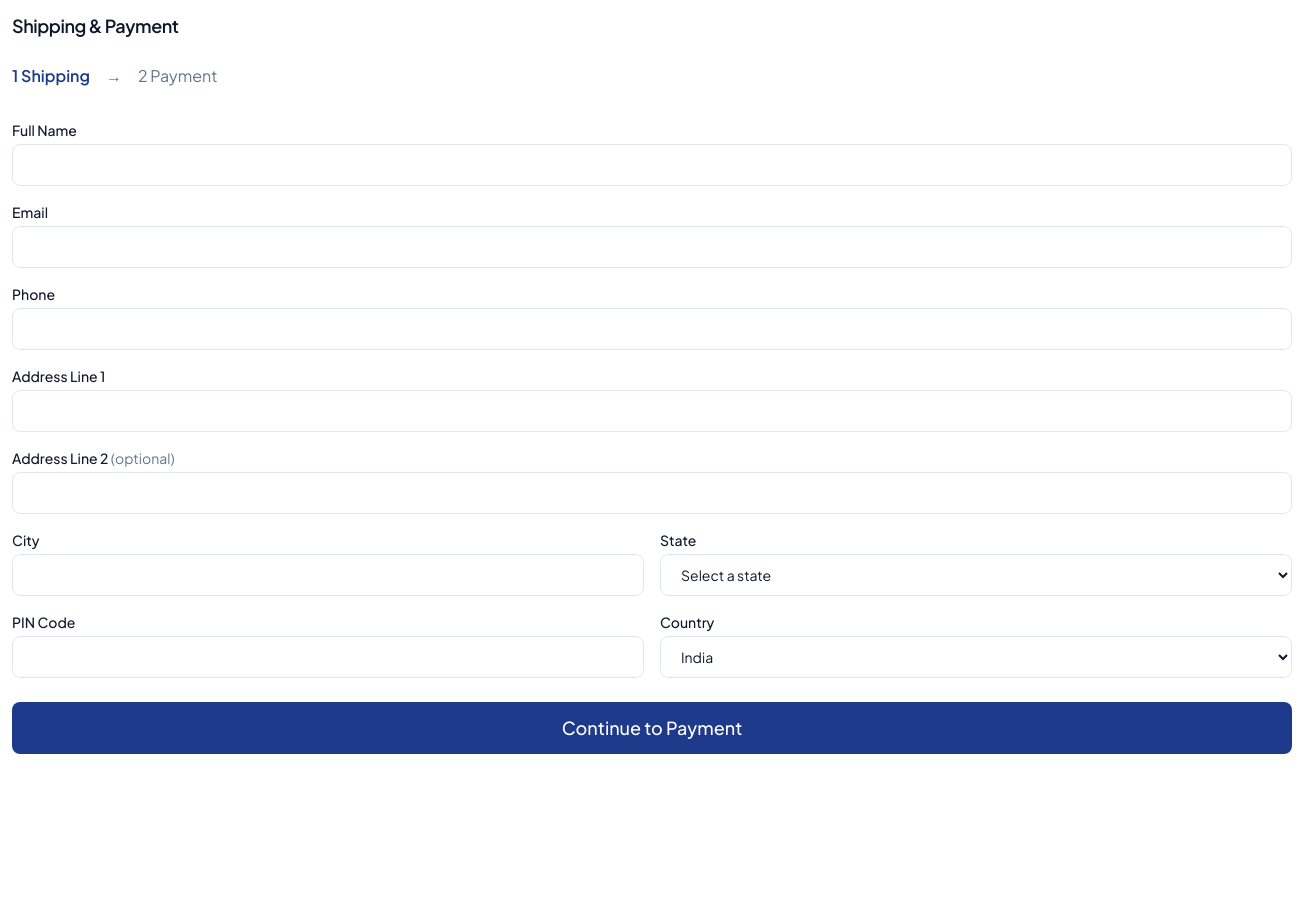
Test: CheckoutForm › stays on the address step and shows the error when order creation fails
The width and height of the screenshot is (1304, 912).
Type "Test User" into the field labelled "Full Name" at (652, 165), box [12, 144, 1292, 186]
Type "test@test.com" into the field labelled "Email" at (652, 247), box [12, 226, 1292, 268]
Type "9876543210" into the field labelled "Phone" at (652, 329), box [12, 308, 1292, 350]
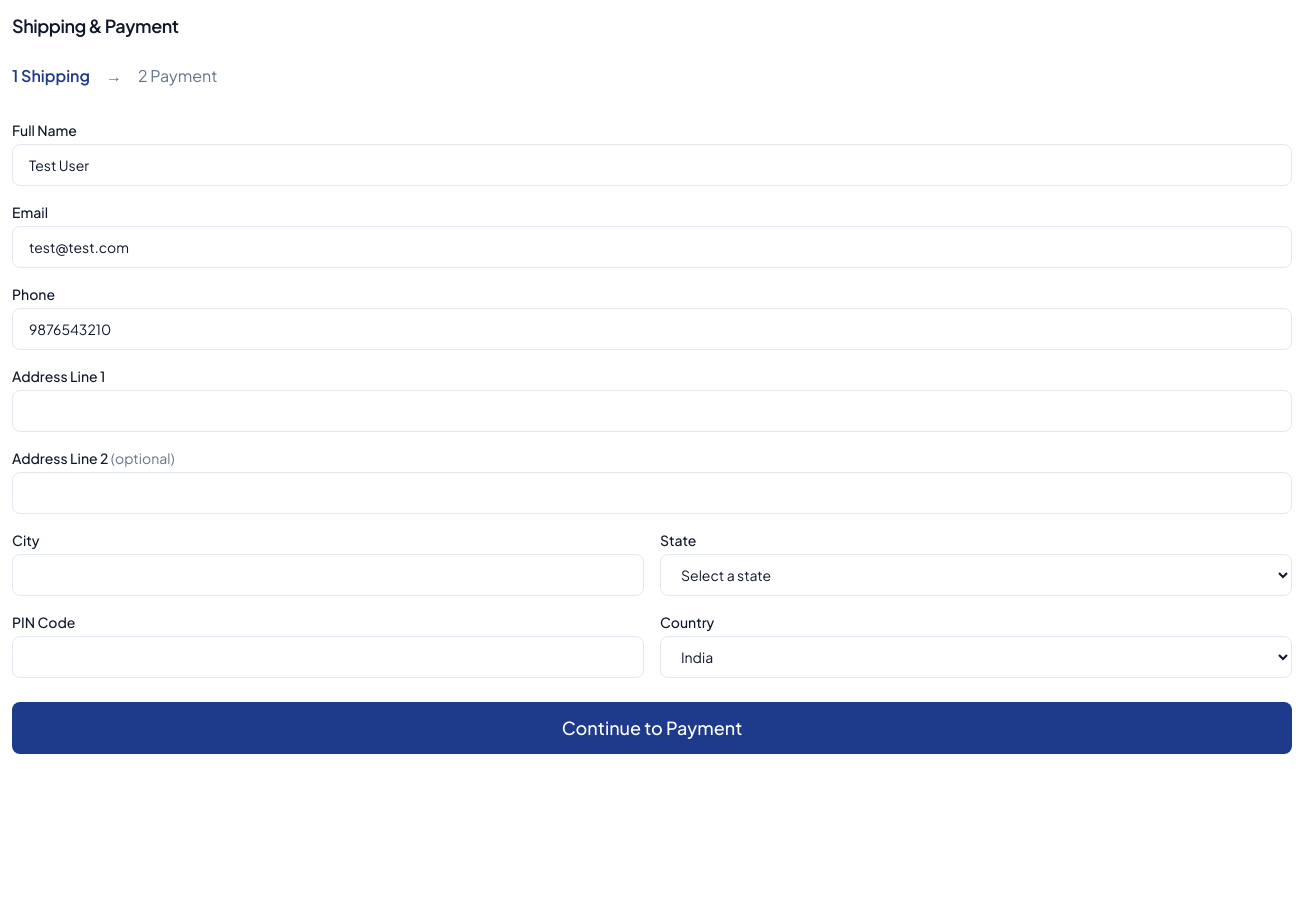
Type "22-1-53, Balaji Nagar" into the field labelled "Address Line 1" at (652, 411), box [12, 390, 1292, 432]
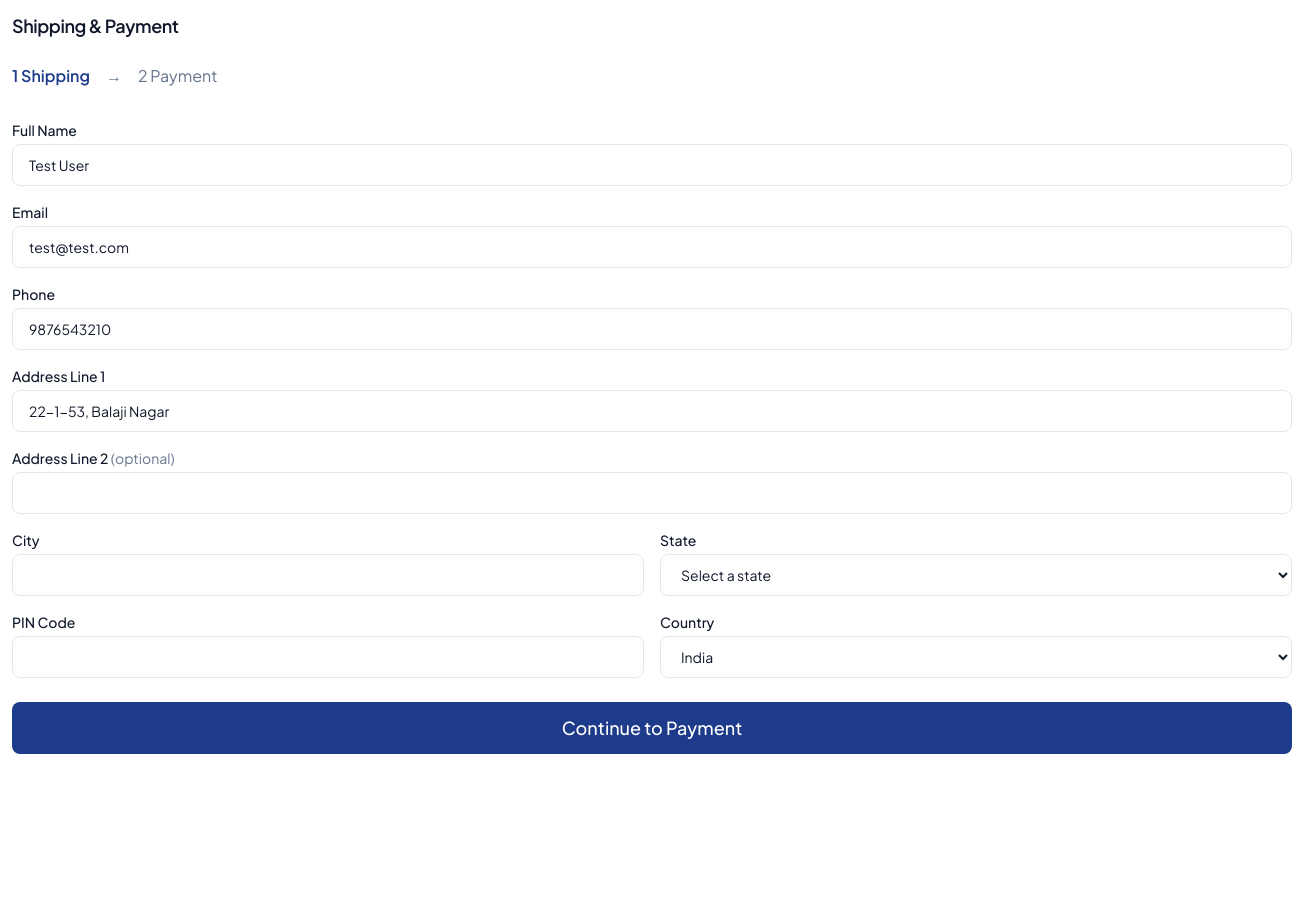
Type "Vijayawada" into the field labelled "City" at (328, 575), box [12, 554, 644, 596]
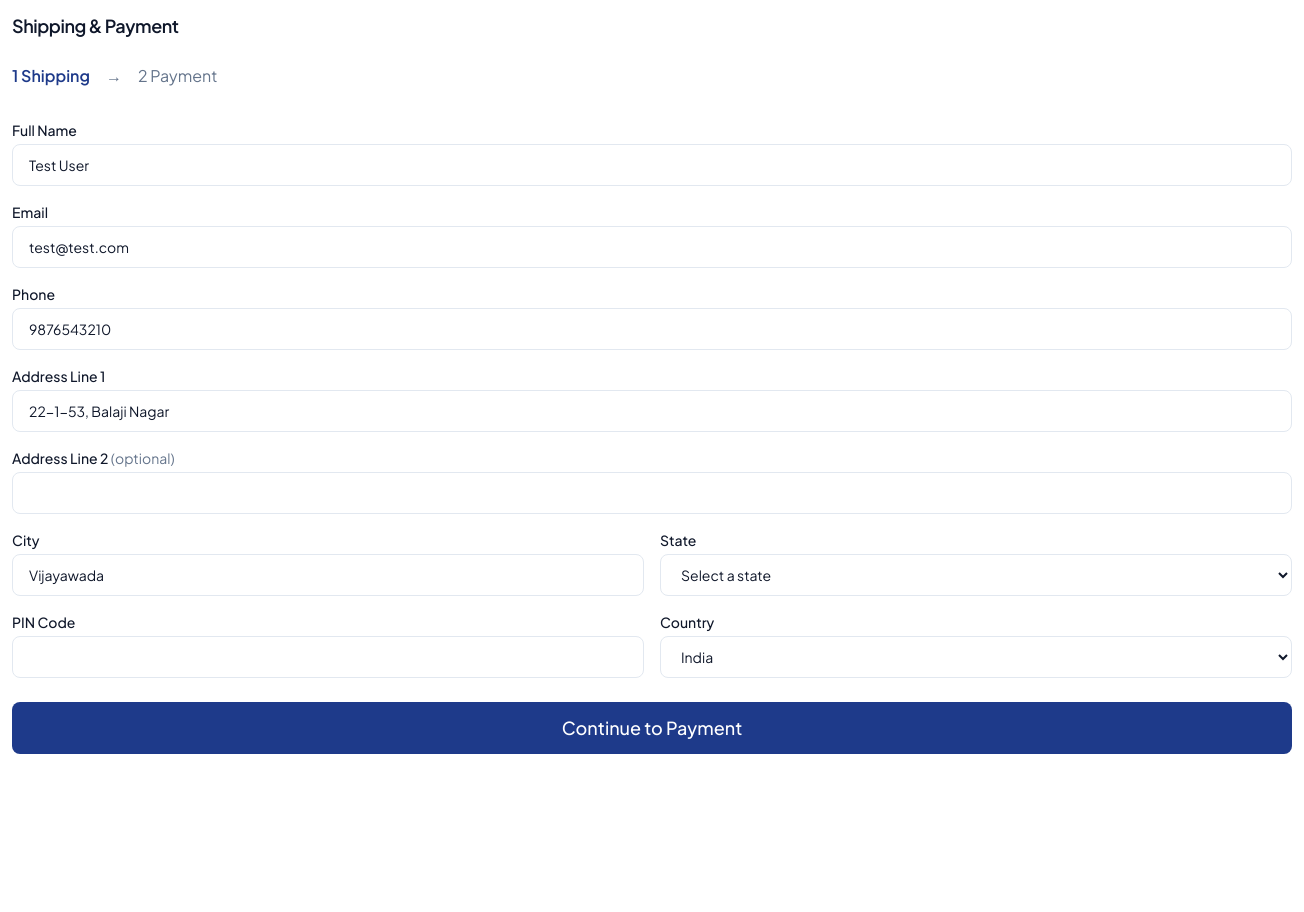
Select "Andhra Pradesh" in the dropdown labelled "State" at (976, 575), box [660, 554, 1292, 596]
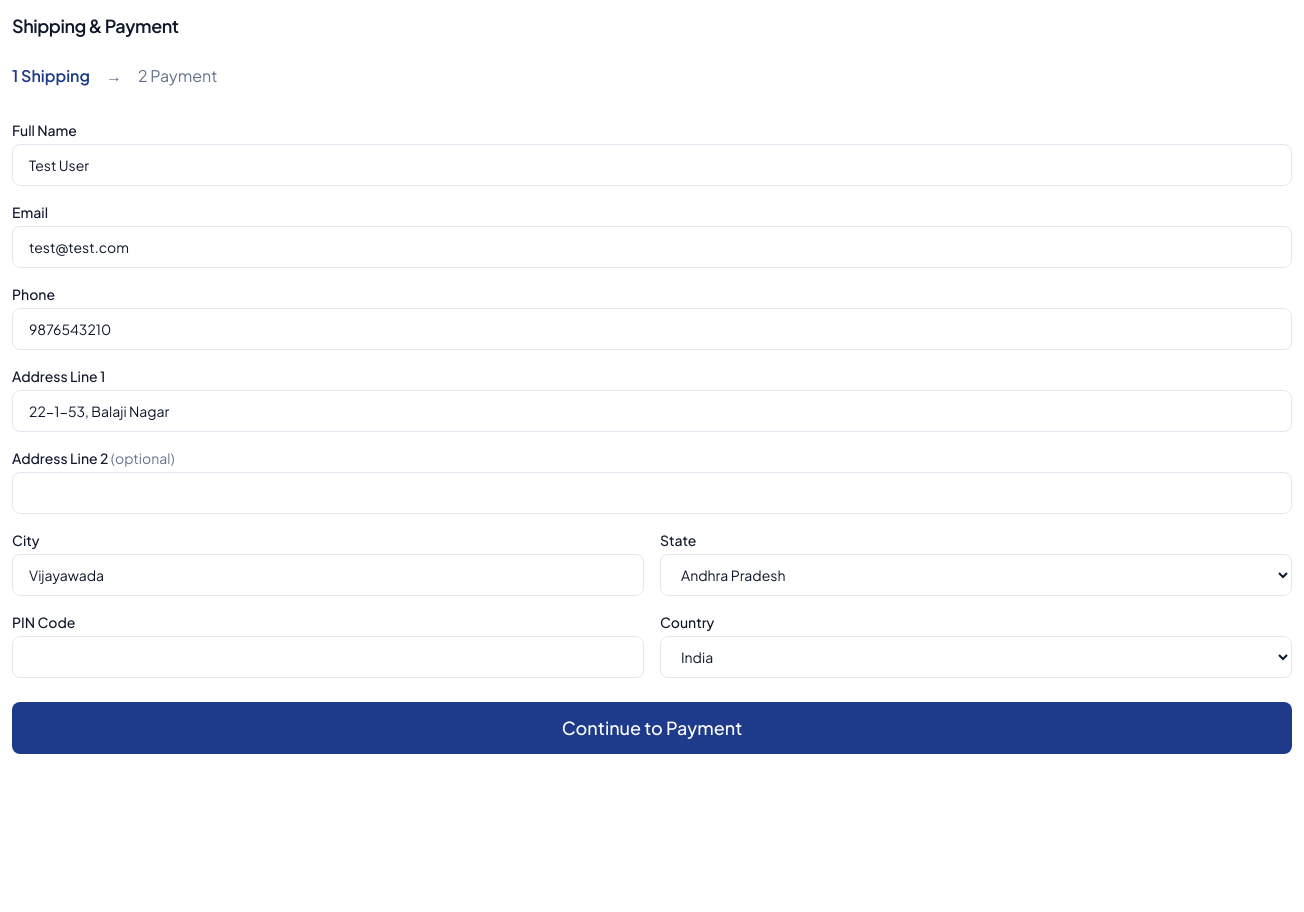
Type "520010" into the field labelled "PIN Code" at (328, 657), box [12, 636, 644, 678]
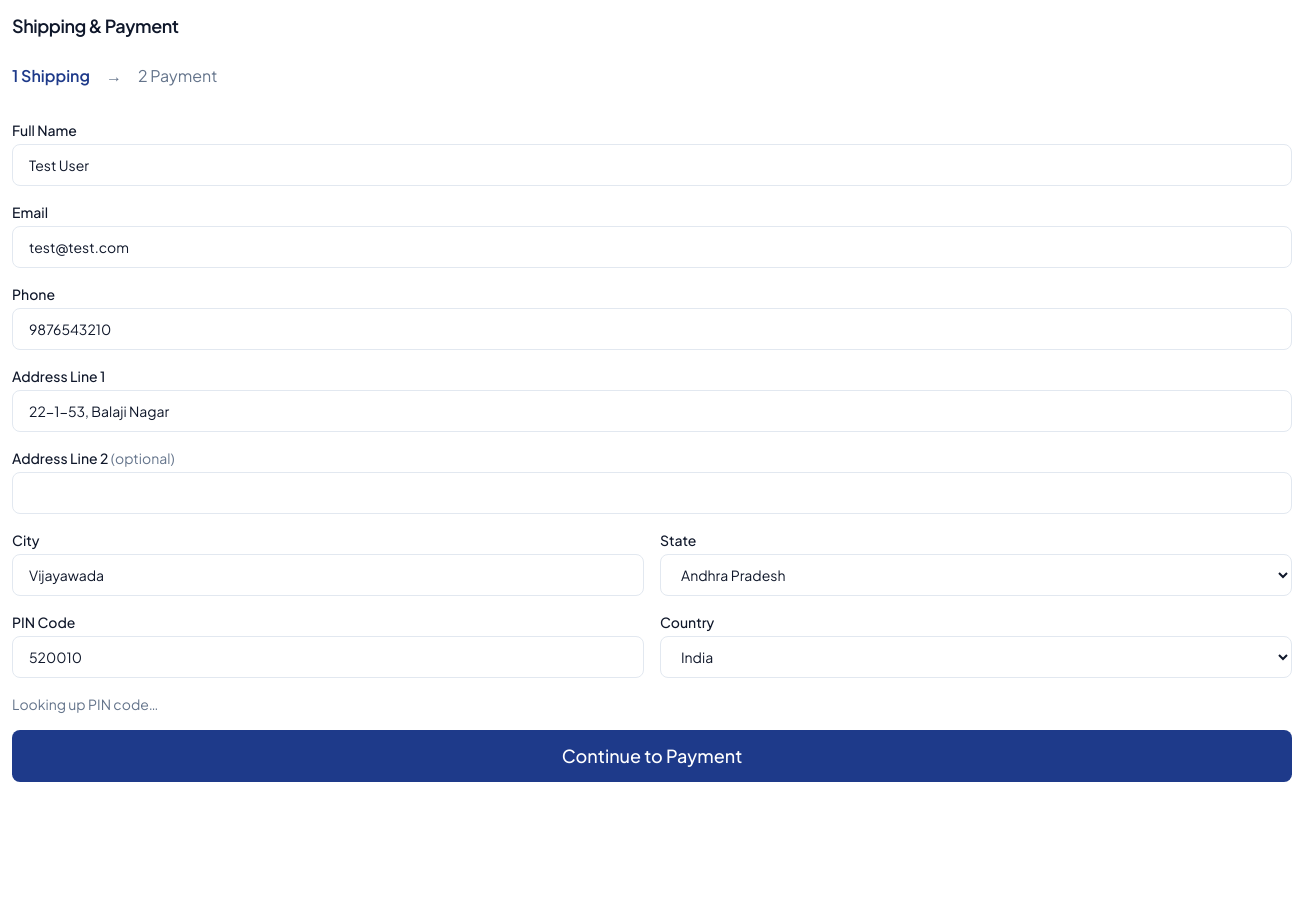
Click the button "Continue to Payment" at (652, 756), box [12, 730, 1292, 782]
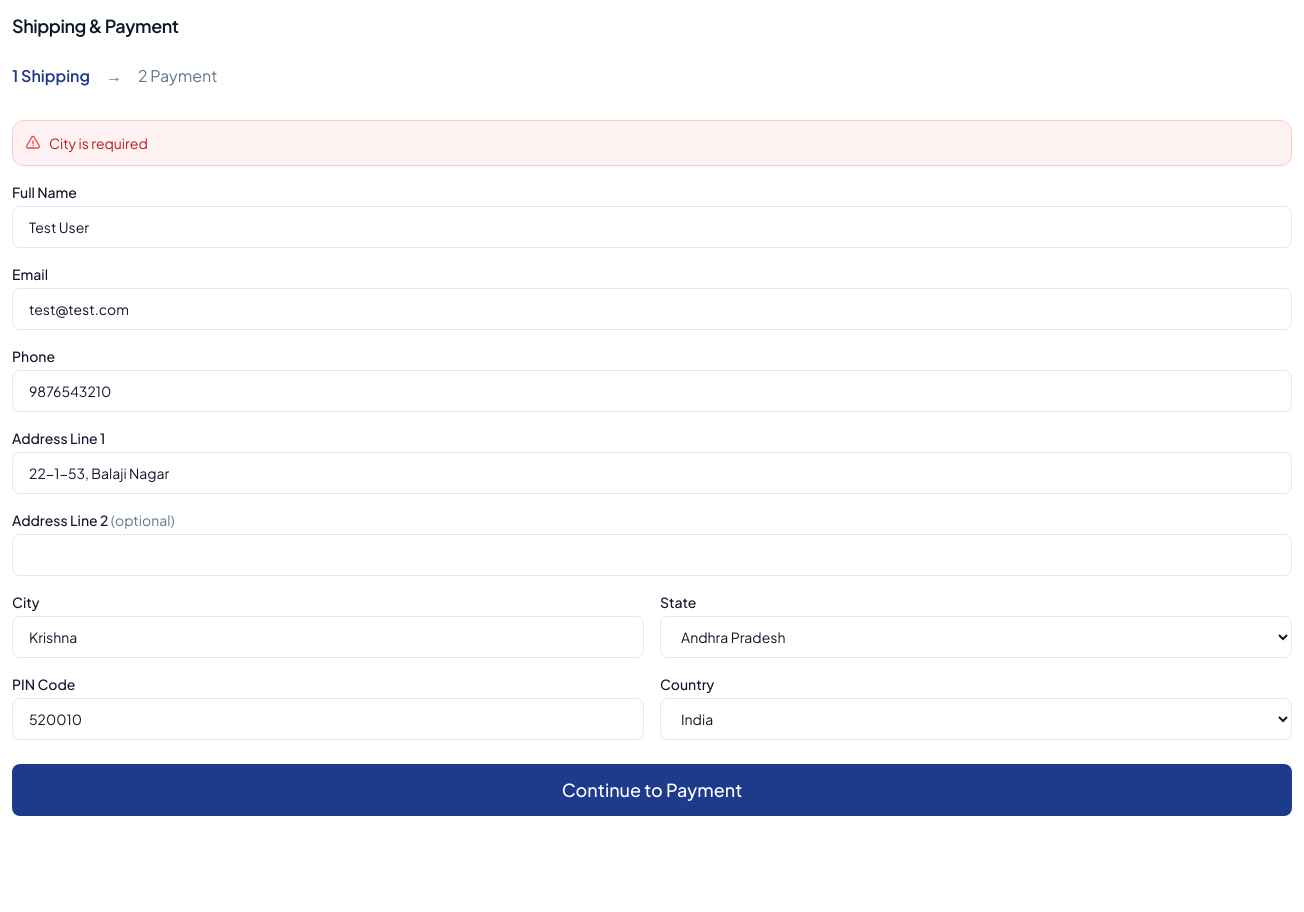
Expected: the text "City is required" is shown, [49, 133, 148, 153]
